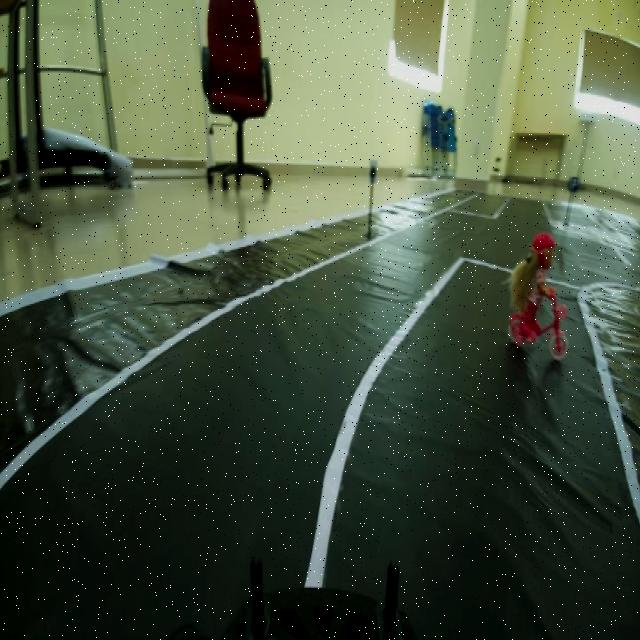pedestrian: (501, 227, 567, 361)
